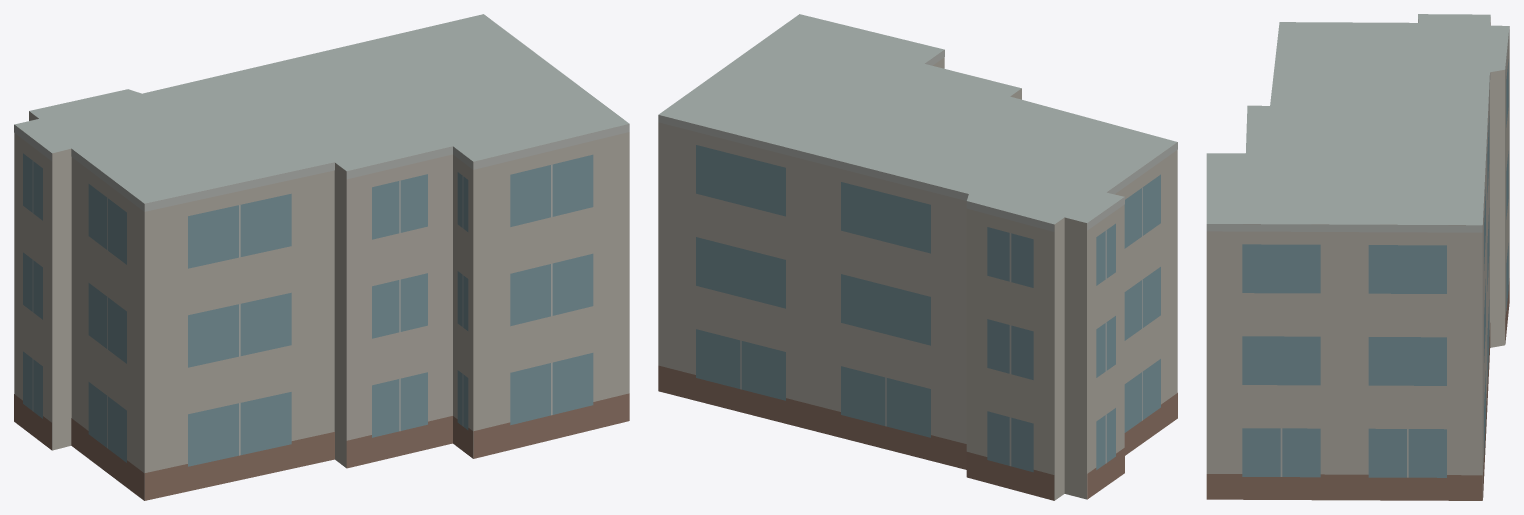
The model's file is survey-upis-32911024.glb.
3 views of the same model, side by side, from view 1: azimuth 30°, elevation 25°; view 2: azimuth 150°, elevation 25°; view 3: azimuth 270°, elevation 25° (orthographic). The views are drawn at different scales.
Parts seen in each view (by area): view 1: survey-upis-32911024.tmp; view 2: survey-upis-32911024.tmp; view 3: survey-upis-32911024.tmp.
Part boxes in pixels (x1,y1,x2,y2): survey-upis-32911024.tmp: (14, 14, 629, 500); survey-upis-32911024.tmp: (658, 14, 1177, 500); survey-upis-32911024.tmp: (1206, 14, 1509, 500).
Size of the model in its own units: 14.63 by 8.9 by 8.88.
